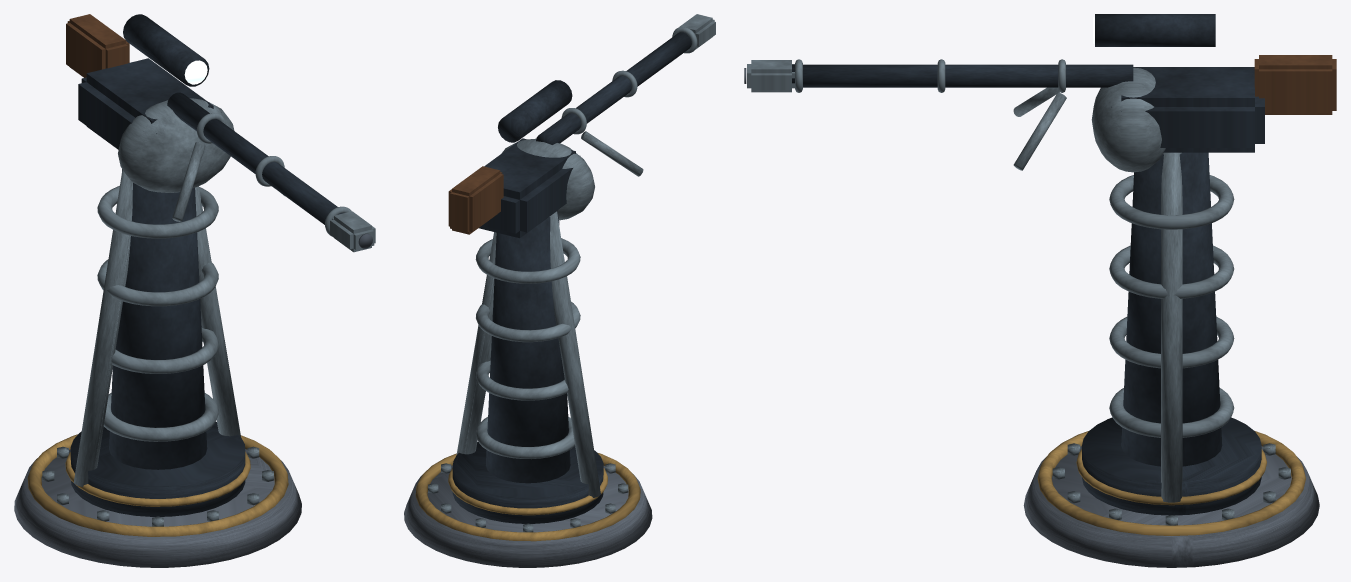
Rendered from tower_sniper_1.glb.
3 renders of one model, left to right at view 1: azimuth 30°, elevation 25°; view 2: azimuth 150°, elevation 25°; view 3: azimuth 270°, elevation 25°, orthographic. The views are drawn at different scales.
Parts seen in each view (by area): view 1: Forged_black_iron, Weathered_blue_steel, Weathered_granite, Forged_black_iron.001, Weathered_blue_steel.001, Antique_brass, Old_oak; view 2: Forged_black_iron, Weathered_blue_steel, Forged_black_iron.001, Weathered_granite, Antique_brass, Weathered_blue_steel.001, Old_oak; view 3: Forged_black_iron, Forged_black_iron.001, Weathered_blue_steel, Weathered_granite, Weathered_blue_steel.001, Antique_brass, Old_oak.
Boxes of the visible parts, x1,y1,x2,y2 form: Forged_black_iron: (70,169,245,516); Weathered_blue_steel: (42,169,273,526); Weathered_granite: (14,449,301,567); Forged_black_iron.001: (78,14,343,224); Weathered_blue_steel.001: (118,98,375,252); Antique_brass: (27,434,288,536); Old_oak: (66,14,129,77); Forged_black_iron: (452,211,603,523); Weathered_blue_steel: (428,211,628,532); Forged_black_iron.001: (479,32,691,238); Weathered_granite: (404,465,652,567); Antique_brass: (415,452,640,541); Weathered_blue_steel.001: (502,14,715,220); Old_oak: (448,166,503,234); Forged_black_iron: (1082,152,1261,515); Forged_black_iron.001: (792,14,1264,152); Weathered_blue_steel: (1052,152,1290,525); Weathered_granite: (1023,446,1319,567); Weathered_blue_steel.001: (747,59,1165,172); Antique_brass: (1037,431,1305,535); Old_oak: (1254,55,1336,114).
Bounding box in the file's own units: 2.7 × 4.93 × 5.41.
7 materials, 5 textured.
